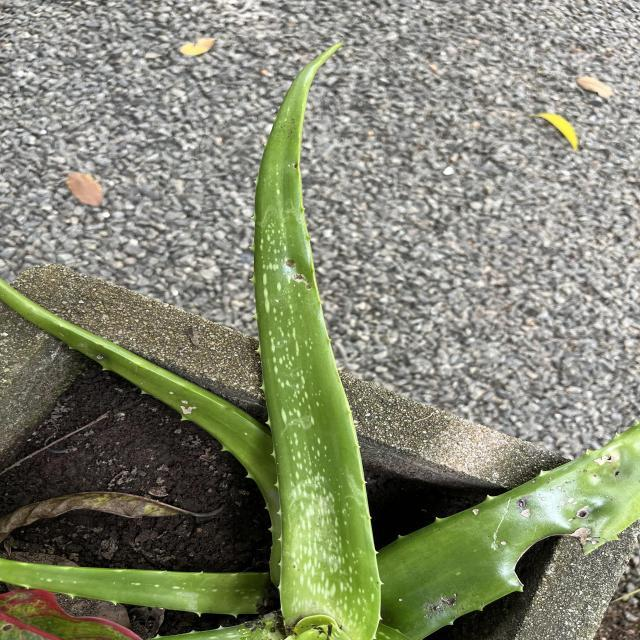Aloe vera: (248, 41, 391, 640)
